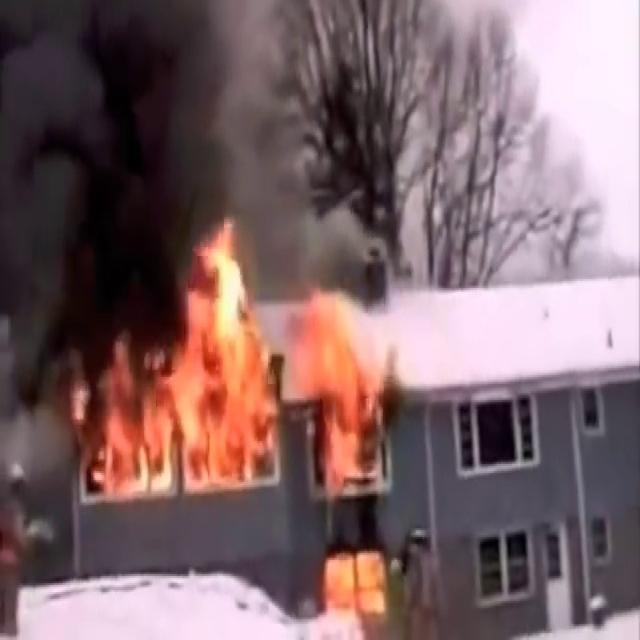Fire: (86, 214, 280, 516), (292, 279, 394, 488)
Smoke: (0, 0, 336, 364)
